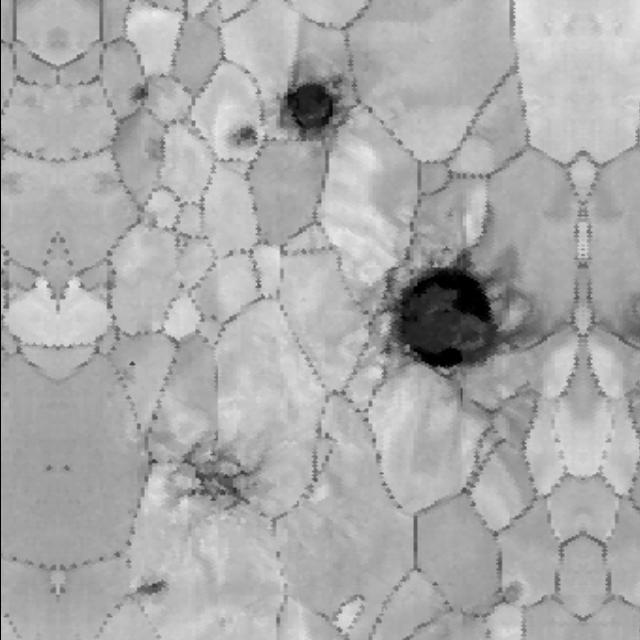good_void: (382, 246, 543, 381), (171, 446, 267, 523), (282, 78, 349, 147), (498, 574, 528, 610), (232, 124, 262, 155), (133, 576, 167, 602), (125, 83, 152, 109), (122, 357, 143, 383), (145, 136, 165, 162)
